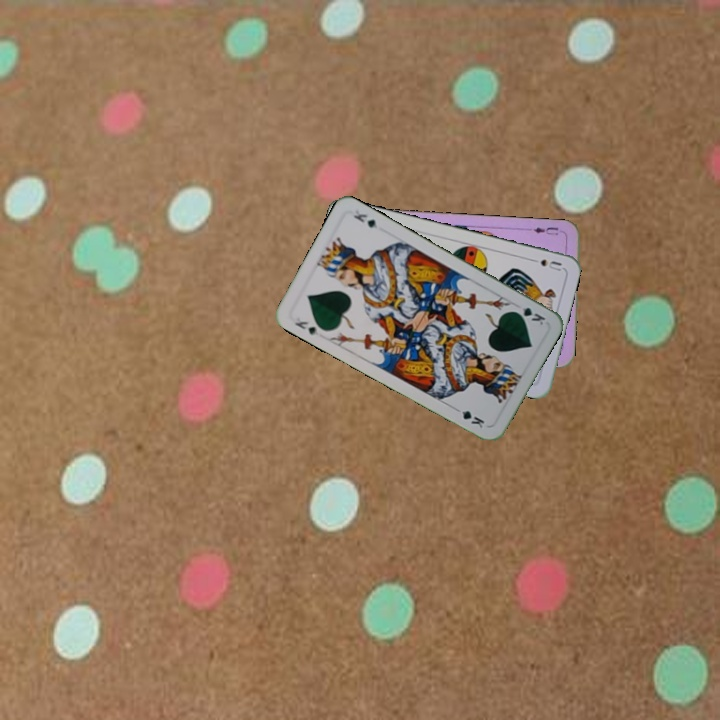EU: (526, 223, 566, 238)
GK: (509, 302, 548, 329), (290, 317, 323, 338)
SU: (525, 254, 564, 274)
